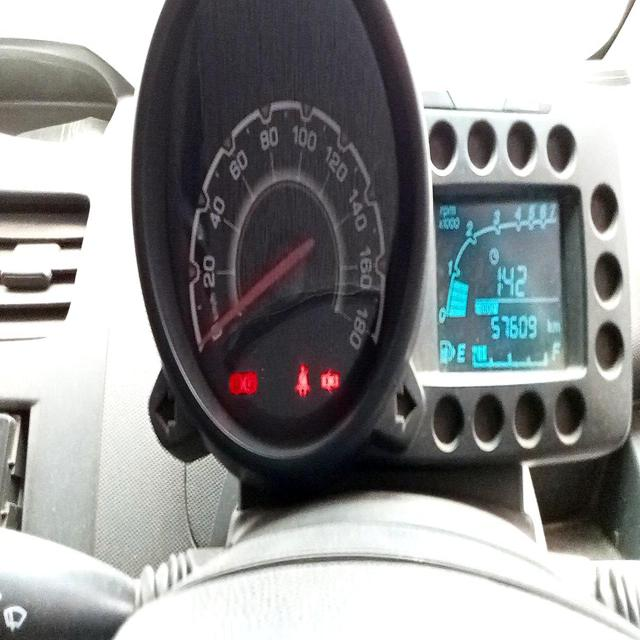odometer: (490, 312, 537, 343)
